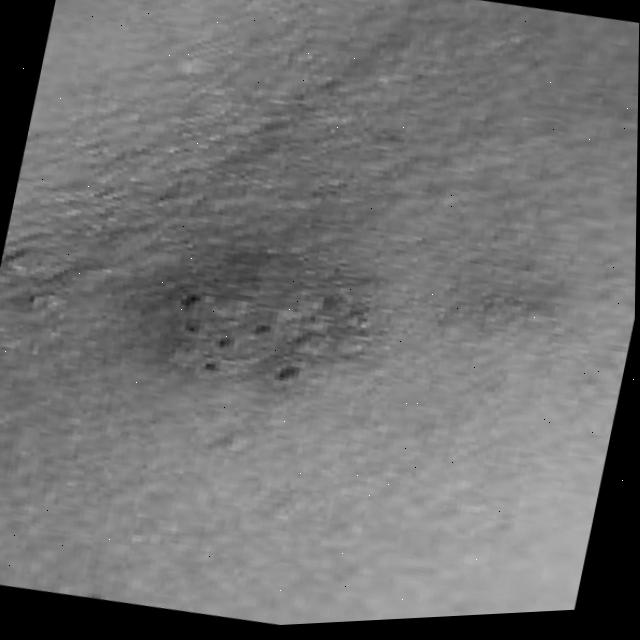Shingles: (156, 240, 366, 412)
